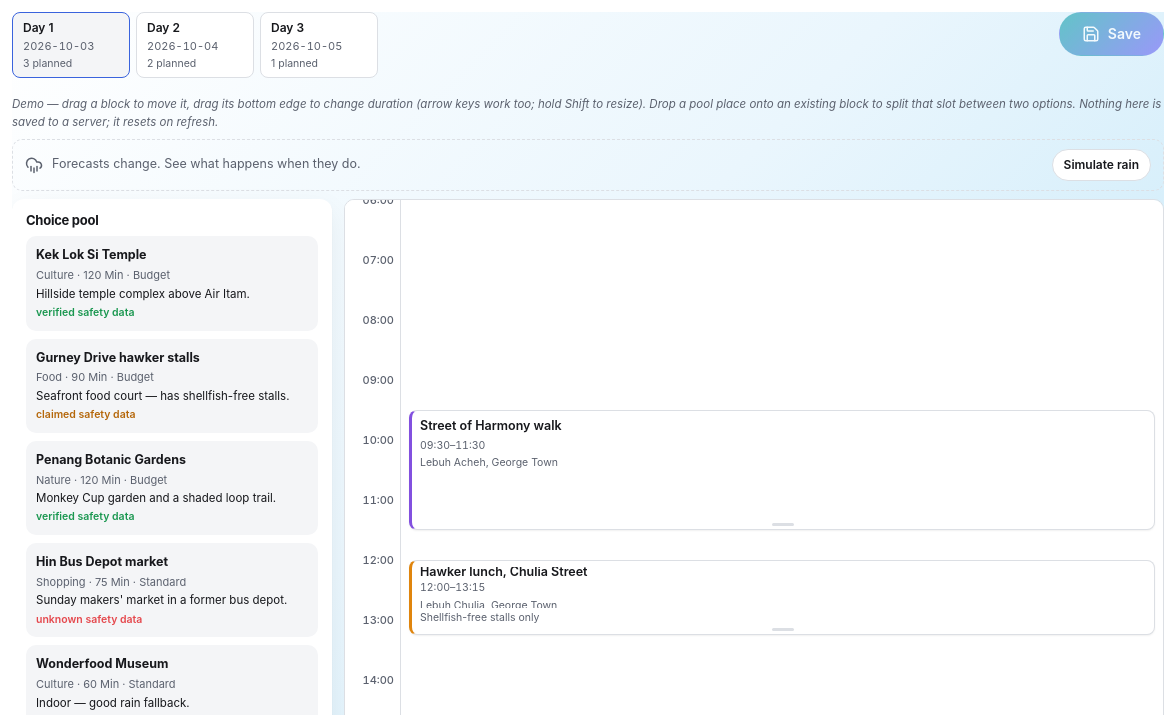
Test: DemoTimeline drag/resize › simulates rain, swaps the at-risk block for the indoor plan, and undoes it
Click the button "Simulate rain": click(1101, 165) top-left (1052, 149), bottom-right (1151, 181)
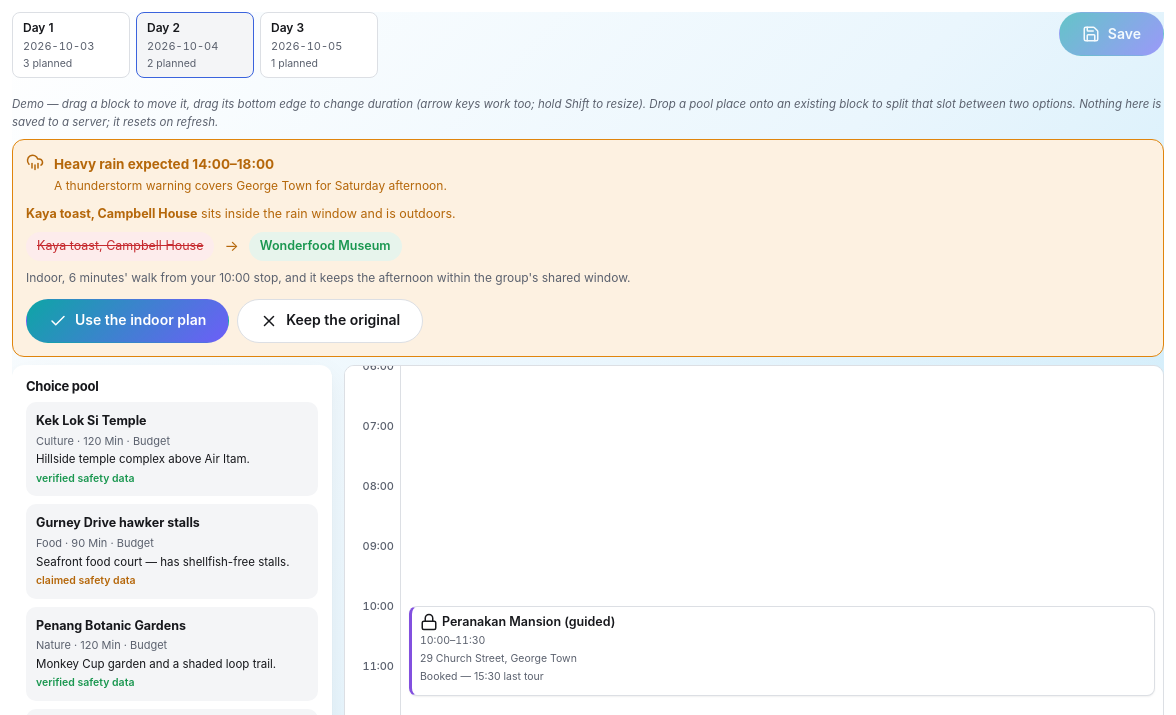
Result: the message shows "Heavy rain expected 14:00–18:00" at top-left (54, 156), bottom-right (274, 172)
Click the button "Use the indoor plan": click(128, 320) top-left (26, 298), bottom-right (229, 342)
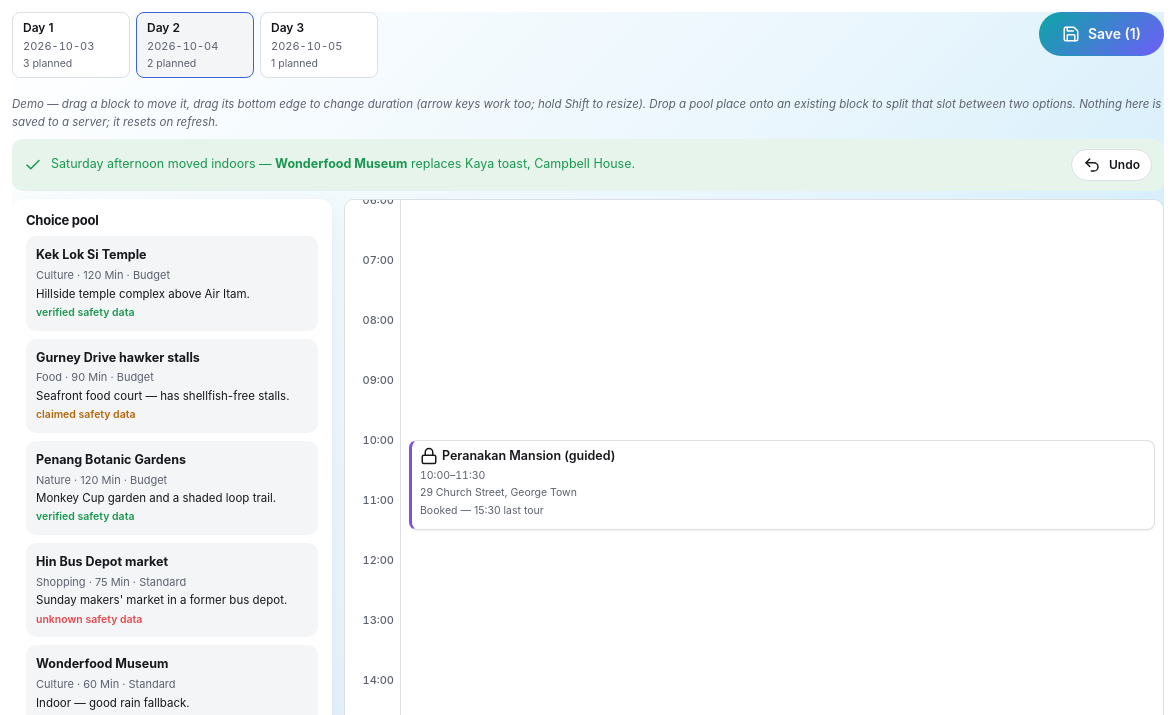
Result: the message with class "wx-applied" shows "Wonderfood Museum" at top-left (275, 156), bottom-right (407, 171)
Click the button "Undo": click(1112, 165) top-left (1071, 149), bottom-right (1152, 181)
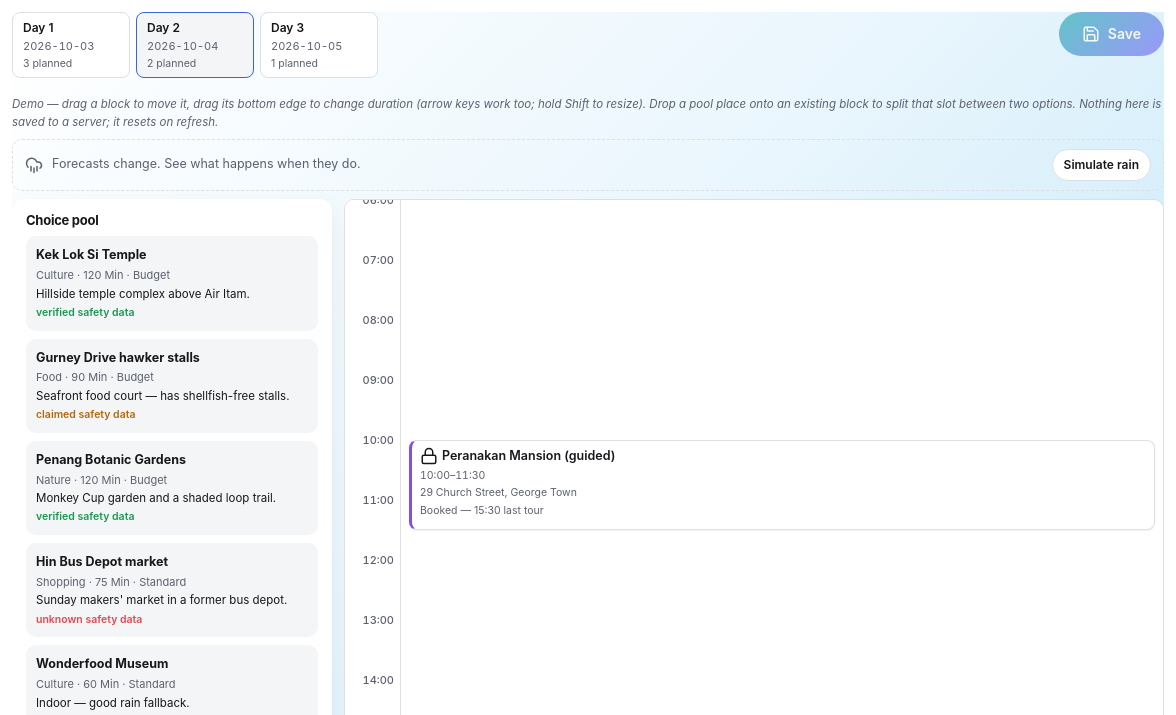
Result: the button "Simulate rain" is shown at top-left (1052, 149), bottom-right (1151, 181)
